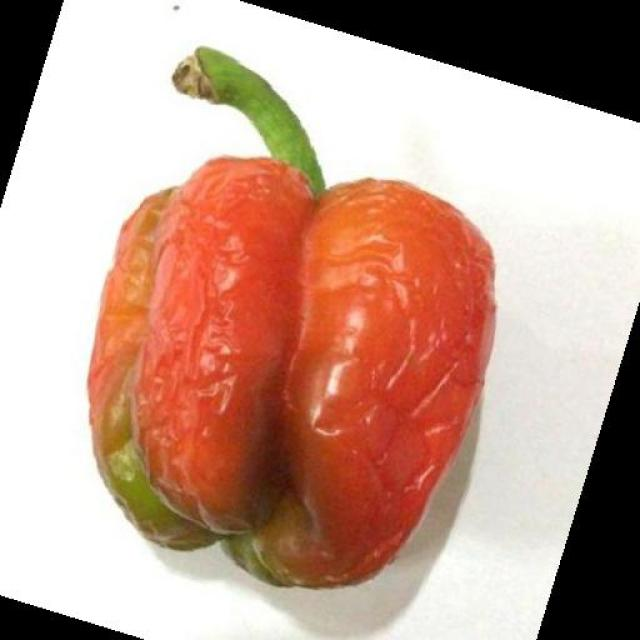Stale_Capsicum: (95, 151, 442, 598)
